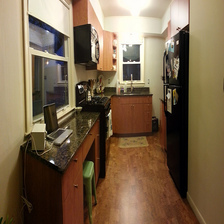laptop: (27, 100, 81, 150)
